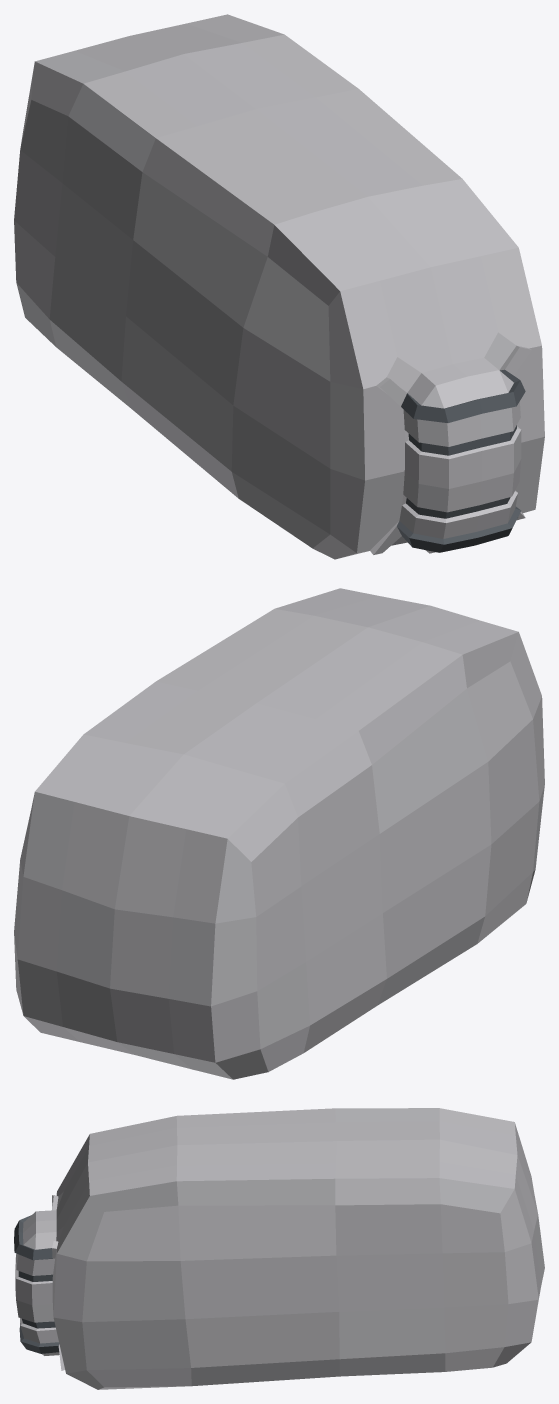
File: Personal_Vehicle_02_Front_Body.fbx
3 renders of one model, top to bottom at view 1: azimuth 30°, elevation 25°; view 2: azimuth 150°, elevation 25°; view 3: azimuth 270°, elevation 25°, orthographic. The views are drawn at different scales.
Visible parts, largest first — view 1: Personal_Vehicle_02_Front_Body; view 2: Personal_Vehicle_02_Front_Body; view 3: Personal_Vehicle_02_Front_Body.
Part boxes in pixels (x1,y1,x2,y2): Personal_Vehicle_02_Front_Body: (14, 14, 544, 559); Personal_Vehicle_02_Front_Body: (14, 588, 544, 1079); Personal_Vehicle_02_Front_Body: (14, 1108, 544, 1389).
Size of the model in its own units: 83.05 by 92.09 by 202.
1 material, 1 textured.
